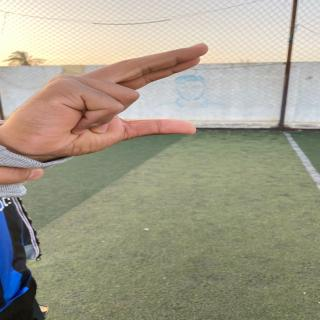DHELL: (12, 33, 234, 159)
